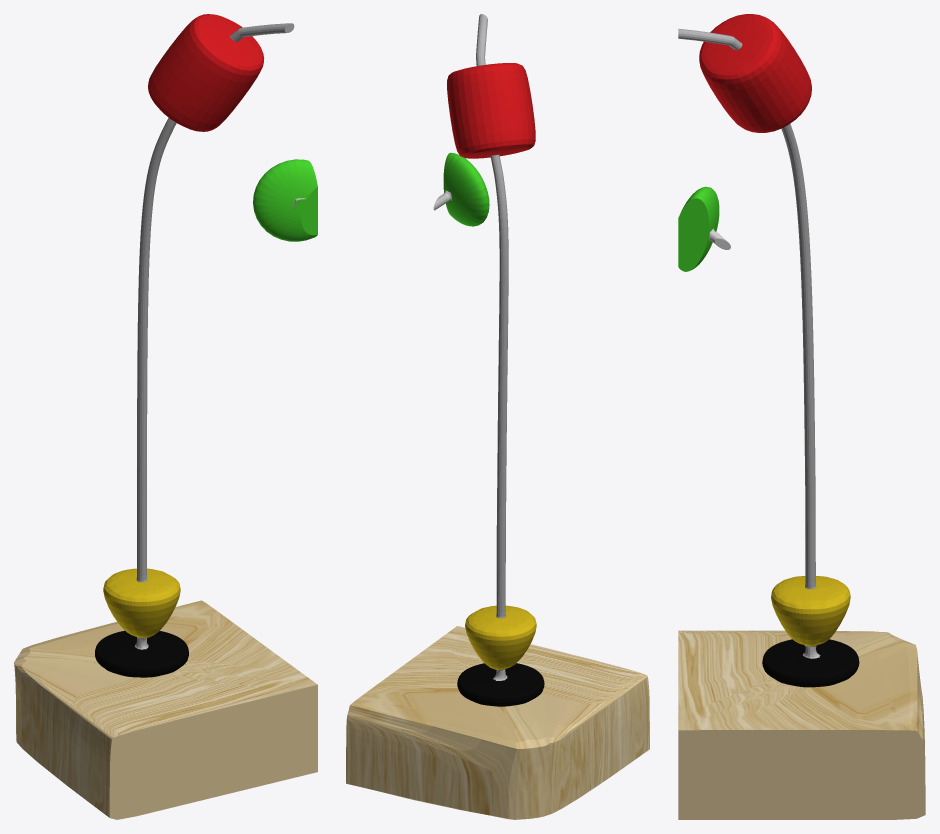
File: 0_Motorikschleife subdiv.fbx
3 views of the same model, side by side, from view 1: azimuth 30°, elevation 25°; view 2: azimuth 150°, elevation 25°; view 3: azimuth 270°, elevation 25° (orthographic). The views are drawn at different scales.
Parts seen in each view (by area): view 1: Cube; view 2: Cube; view 3: Cube.
Part boxes in pixels (box(x1,y1,x2,y2)): Cube: box(14, 14, 317, 819); Cube: box(346, 14, 649, 819); Cube: box(678, 14, 925, 819).
Size of the model in its own units: 499 by 1729 by 499.
